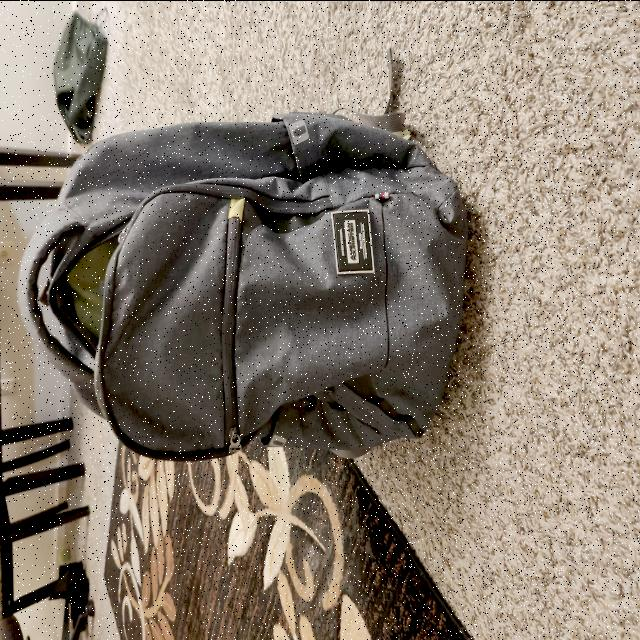bag: (24, 120, 460, 462)
